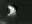person: (8, 5, 18, 20)
